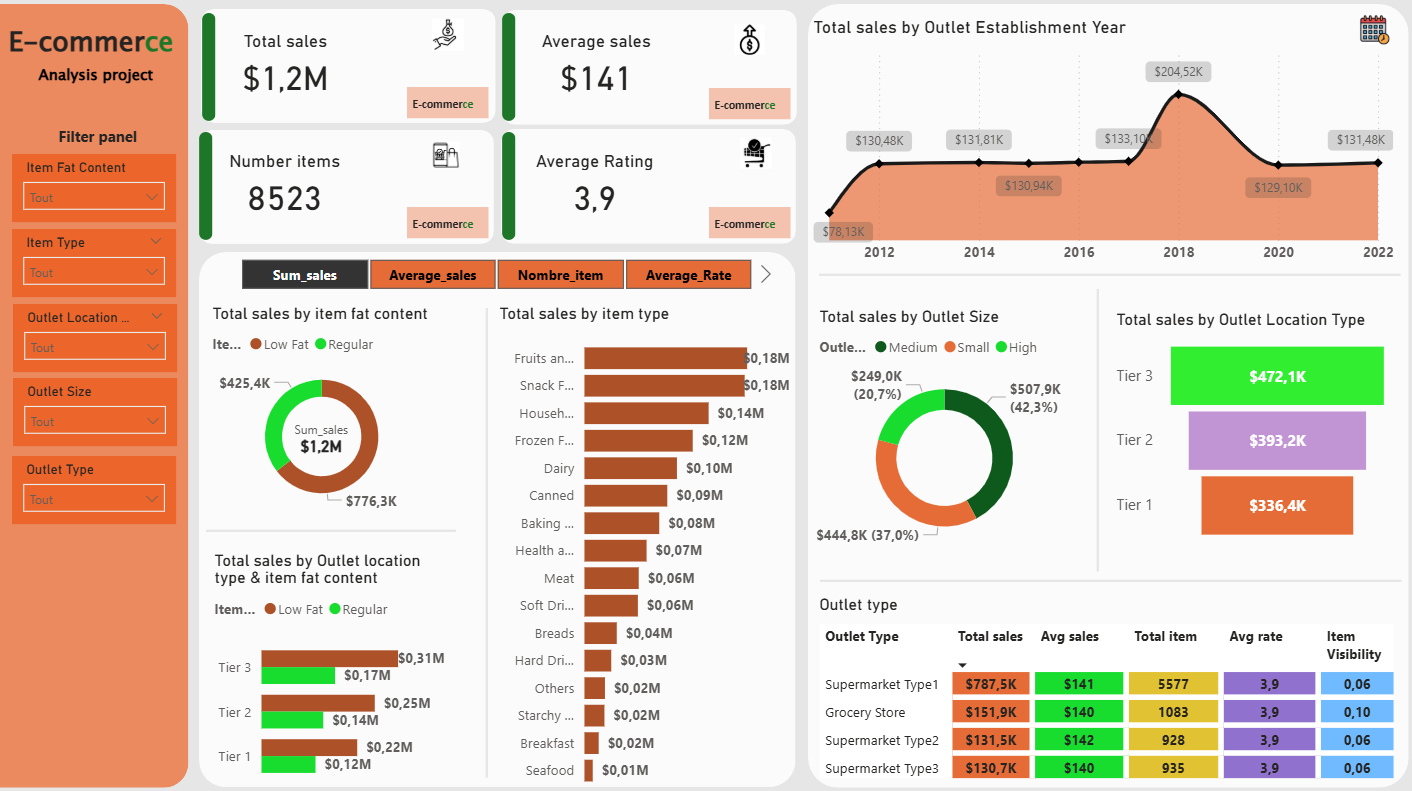

Layout of this report page (visuals, bound fields, positions):
{"tool":"powerbi","page":{"name":"Home","canvas":[1280,720],"ordinal":0},"visuals":[{"type":"shape","box":[6.1,8.6,168.8,701.9],"z":0},{"type":"shape","box":[184.6,231.1,534.4,479.4],"z":1000},{"type":"shape","box":[730,8.6,538,701.9],"z":2000},{"type":"shape","box":[186.1,13.5,264,102],"z":3000},{"type":"shape","box":[184.6,121.4,264.1,102],"z":4000},{"type":"shape","box":[454.9,121.1,264.1,102.7],"z":5000},{"type":"card","title":"Total sales","fields":{"Values":["Mesures.Sum_sales"]},"box":[192,32,140.6,65],"z":6000},{"type":"shape","box":[455.9,14.7,264.1,102.7],"z":7000},{"type":"card","title":"Average sales","fields":{"Values":["Mesures.Average_sales"]},"box":[462.2,32,156.5,65],"z":8000},{"type":"card","title":"Number items","fields":{"Values":["Mesures.Nombre_item"]},"box":[189.5,139.6,143.1,65],"z":9000},{"type":"card","title":"Average Rating","fields":{"Values":["Mesures.Average_Rate"]},"box":[459.8,139.6,159,65],"z":10000},{"type":"donutChart","title":"Total sales by item fat content","fields":{"Y":["Mesures.Total sales"],"Category":["BlinkIT Grocery Data.Item Fat Content"]},"box":[192,277.6,205.4,193.2],"z":11000},{"type":"barChart","title":"Total sales by item type","fields":{"Y":["Mesures.Total sales"],"Category":["BlinkIT Grocery Data.Item Type"]},"box":[448.8,277.6,270.2,442.7],"z":12000},{"type":"clusteredBarChart","title":"Total sales by Outlet location type & item fat content","fields":{"Y":["Mesures.Total sales"],"Category":["BlinkIT Grocery Data.Outlet Location Type"],"Series":["BlinkIT Grocery Data.Item Fat Content"]},"box":[193.2,498.9,216.4,221.3],"z":13000},{"type":"areaChart","title":"Total sales by Outlet Establishment Year","fields":{"Y":["Mesures.Total sales"],"Category":["BlinkIT Grocery Data.Outlet Establishment Year"]},"box":[730,19.6,529.5,229.9],"z":14000},{"type":"donutChart","title":"Total sales by Outlet Size","fields":{"Y":["Mesures.Total sales"],"Category":["BlinkIT Grocery Data.Outlet Size"]},"box":[734.9,280.4,233.6,226.2],"z":15000},{"type":"funnel","title":"Total sales by Outlet Location Type","fields":{"Y":["Mesures.Total sales"],"Category":["BlinkIT Grocery Data.Outlet Location Type"]},"box":[1001.5,282.8,254.3,216.4],"z":16000},{"type":"pivotTable","title":"Outlet type","fields":{"Rows":["BlinkIT Grocery Data.Outlet Type"],"Values":["Mesures.Total sales","Mesures.Average_sales","Mesures.Nombre_item","Mesures.Average_Rate","Avg(BlinkIT Grocery Data.Item Visibility)"]},"box":[734.9,538,529.5,172.4],"z":17000},{"type":"textbox","box":[8.6,19.6,166.3,77],"z":18000},{"type":"shape","box":[184.6,123.5,12.2,96.6],"z":19000},{"type":"shape","box":[187.1,17.1,12.2,96.6],"z":20000},{"type":"shape","box":[456.1,123.5,12.2,96.6],"z":21000},{"type":"shape","box":[456.1,17.1,12.2,96.6],"z":22000},{"type":"slicer","fields":{"Values":["Paramètre.Paramètre"]},"box":[196.9,231.1,506.3,36.7],"z":23000},{"type":"cardVisual","fields":{"Data":["Mesures.Total sales"]},"box":[240.9,359.5,106.4,77],"z":24000},{"type":"shape","box":[190.8,474.5,223.8,12.2],"z":25000},{"type":"shape","box":[436.6,281.3,12.2,420.7],"z":26000},{"type":"shape","box":[741,519.7,520.9,12.2],"z":27000},{"type":"shape","box":[983.2,264.1,12.2,253.1],"z":28000},{"type":"slicer","fields":{"Values":["BlinkIT Grocery Data.Item Fat Content"]},"box":[17.1,143.1,146.7,61.1],"z":29000},{"type":"slicer","fields":{"Values":["BlinkIT Grocery Data.Item Type"]},"box":[17.1,210.3,146.7,61.1],"z":30000},{"type":"slicer","fields":{"Values":["BlinkIT Grocery Data.Outlet Location Type"]},"box":[18.3,277.6,146.7,61.1],"z":31000},{"type":"slicer","fields":{"Values":["BlinkIT Grocery Data.Outlet Size"]},"box":[18.3,343.6,146.7,61.1],"z":32000},{"type":"slicer","fields":{"Values":["BlinkIT Grocery Data.Outlet Type"]},"box":[17.1,413.3,146.7,61.1],"z":33000},{"type":"textbox","box":[53.8,113.7,99,34.2],"z":34000},{"type":"shape","box":[739.8,245.8,520.9,12.2],"z":35000},{"type":"image","box":[377.9,17.1,58.7,39.1],"z":36000},{"type":"textbox","box":[370.5,83.2,73.4,28.1],"z":37000},{"type":"textbox","box":[640.8,190.8,73.4,28.1],"z":38000},{"type":"textbox","box":[640.8,84.4,73.4,28.1],"z":39000},{"type":"textbox","box":[370.5,190.8,73.4,28.1],"z":40000},{"type":"image","box":[659.1,22,36.7,36.7],"z":41000},{"type":"image","box":[388.9,126,34.2,35.5],"z":42000},{"type":"image","box":[659.1,123.5,48.9,37.9],"z":43000},{"type":"image","box":[1219.2,13.5,36.7,36.7],"z":44000}]}

Visuals, with their boxes in screenshot pixels (x1, y1, x2, y2), scaled from the page's 1280x720 canvas onto the 1412x791 screenshot:
shape: locate(7, 9, 193, 781)
shape: locate(204, 254, 793, 781)
shape: locate(805, 9, 1399, 781)
shape: locate(205, 15, 497, 127)
shape: locate(204, 133, 495, 245)
shape: locate(502, 133, 793, 246)
"Total sales" card: locate(212, 35, 367, 107)
shape: locate(503, 16, 794, 129)
"Average sales" card: locate(510, 35, 683, 107)
"Number items" card: locate(209, 153, 367, 225)
"Average Rating" card: locate(507, 153, 683, 225)
"Total sales by item fat content" donutChart: locate(212, 305, 438, 517)
"Total sales by item type" barChart: locate(495, 305, 793, 790)
"Total sales by Outlet location type & item fat content" clusteredBarChart: locate(213, 548, 452, 790)
"Total sales by Outlet Establishment Year" areaChart: locate(805, 22, 1389, 274)
"Total sales by Outlet Size" donutChart: locate(811, 308, 1068, 557)
"Total sales by Outlet Location Type" funnel: locate(1105, 311, 1385, 548)
"Outlet type" pivotTable: locate(811, 591, 1395, 780)
textbox: locate(9, 22, 193, 106)
shape: locate(204, 136, 217, 242)
shape: locate(206, 19, 220, 125)
shape: locate(503, 136, 517, 242)
shape: locate(503, 19, 517, 125)
slicer - Paramètre.Paramètre: locate(217, 254, 776, 294)
cardVisual - Mesures.Total sales: locate(266, 395, 383, 480)
shape: locate(210, 521, 457, 535)
shape: locate(482, 309, 495, 771)
shape: locate(817, 571, 1392, 584)
shape: locate(1085, 290, 1098, 568)
slicer - BlinkIT Grocery Data.Item Fat Content: locate(19, 157, 181, 224)
slicer - BlinkIT Grocery Data.Item Type: locate(19, 231, 181, 298)
slicer - BlinkIT Grocery Data.Outlet Location Type: locate(20, 305, 182, 372)
slicer - BlinkIT Grocery Data.Outlet Size: locate(20, 377, 182, 445)
slicer - BlinkIT Grocery Data.Outlet Type: locate(19, 454, 181, 521)
textbox: locate(59, 125, 169, 162)
shape: locate(816, 270, 1391, 283)
image: locate(417, 19, 482, 62)
textbox: locate(409, 91, 490, 122)
textbox: locate(707, 210, 788, 240)
textbox: locate(707, 93, 788, 124)
textbox: locate(409, 210, 490, 240)
image: locate(727, 24, 768, 64)
image: locate(429, 138, 467, 177)
image: locate(727, 136, 781, 177)
image: locate(1345, 15, 1385, 55)
